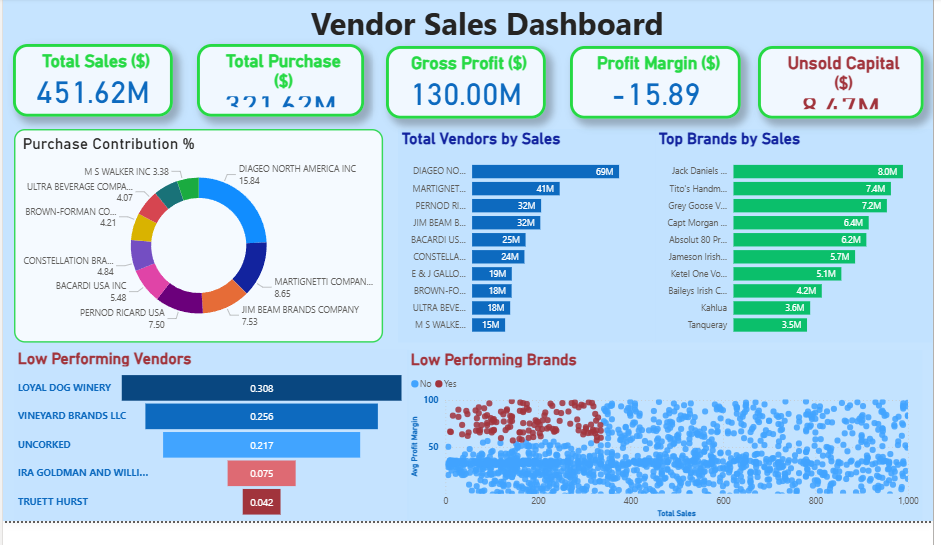

The page's visual inventory and layout, read from the dashboard file:
{"tool":"powerbi","page":{"name":"Page 1","canvas":[1280,720],"ordinal":0},"visuals":[{"type":"textbox","box":[400,0,531.7,75.6],"z":0},{"type":"card","title":"Total Sales ($)","fields":{"Values":["Sum(vendor_sales_summary.TotalSalesDollars)"]},"box":[14.2,63.3,220,100],"z":1000},{"type":"card","title":"Total Purchase ($)","fields":{"Values":["Sum(vendor_sales_summary.TotalPurchaseDollars)"]},"box":[267.5,63.4,230.1,99.5],"z":2000},{"type":"card","title":"Gross Profit ($)","fields":{"Values":["Sum(vendor_sales_summary.GrossProfit)"]},"box":[526.5,65.7,220,100],"z":3000},{"type":"card","title":"Profit Margin ($)","fields":{"Values":["Avg(vendor_sales_summary.ProfitMargin)"]},"box":[780,65.9,235.1,99.5],"z":4000},{"type":"card","title":"Unsold Capital ($)","fields":{"Values":["vendor_sales_summary.UnsoldCapital"]},"box":[1038.7,65.9,227.6,99.5],"z":5000},{"type":"donutChart","title":"Purchase Contribution %","fields":{"Y":["PurchaseContribution.PurchaseContribution%"],"Series":["PurchaseContribution.VendorName"],"Category":["PurchaseContribution.VendorName"]},"box":[14.7,180,508.5,293.7],"z":6000},{"type":"barChart","title":"Total Vendors by Sales","fields":{"Category":["vendor_sales_summary.VendorName"],"Y":["Sum(vendor_sales_summary.TotalSalesDollars)"]},"box":[543.3,180,354.3,293.7],"z":7000},{"type":"barChart","title":"Top Brands by Sales","fields":{"Category":["vendor_sales_summary.Description"],"Y":["Sum(vendor_sales_summary.TotalSalesDollars)"]},"box":[897.6,180,381.8,293.7],"z":8000},{"type":"funnel","title":"Low Performing Vendors","fields":{"Category":["LowTurnover.VendorName"],"Y":["Avg(LowTurnover.AvgStockTurnOver)"]},"box":[14.7,482.8,543.3,236.8],"z":9000},{"type":"scatterChart","title":"Low Performing Brands","fields":{"Category":["BrandPerformance.Description"],"X":["Sum(BrandPerformance.TotalSales)"],"Y":["Avg(BrandPerformance.AvgProfitMargin)"],"Series":["BrandPerformance.TargetBrand"]},"box":[556.7,484.2,709.5,235.6],"z":10000}]}

Visuals, with their boxes in screenshot pixels (x1, y1, x2, y2), scaled from the page's 1280x720 canvas onto the 941x545 screenshot:
textbox: [294, 0, 685, 57]
"Total Sales ($)" card: [10, 48, 172, 124]
"Total Purchase ($)" card: [197, 48, 366, 123]
"Gross Profit ($)" card: [387, 50, 549, 125]
"Profit Margin ($)" card: [573, 50, 746, 125]
"Unsold Capital ($)" card: [764, 50, 931, 125]
"Purchase Contribution %" donutChart: [11, 136, 385, 359]
"Total Vendors by Sales" barChart: [399, 136, 660, 359]
"Top Brands by Sales" barChart: [660, 136, 940, 359]
"Low Performing Vendors" funnel: [11, 365, 410, 544]
"Low Performing Brands" scatterChart: [409, 367, 931, 544]
